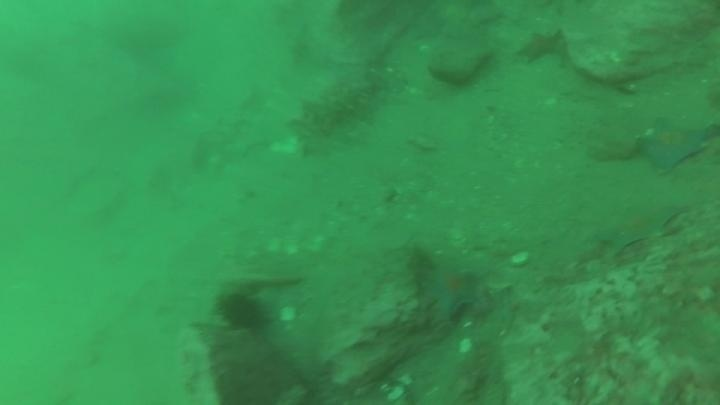echinus: (215, 289, 269, 334)
holothurian: (295, 71, 379, 136), (176, 324, 224, 405)
starfish: (593, 193, 691, 259), (637, 115, 715, 175), (421, 261, 483, 321), (514, 27, 567, 66)
